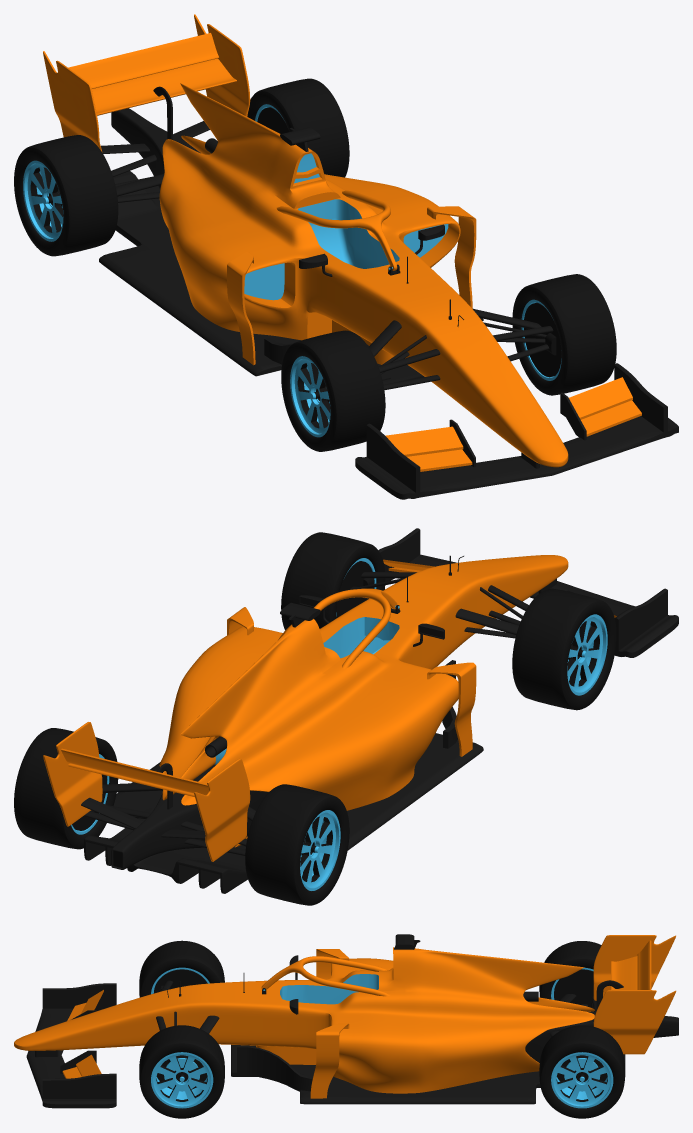
Rendered from Men_accessory_McLaren_5000.fbx.
The picture shows the model from 3 angles, top to bottom: view 1: azimuth 30°, elevation 25°; view 2: azimuth 150°, elevation 25°; view 3: azimuth 270°, elevation 25°; orthographic projection. The views are drawn at different scales.
Parts seen in each view (by area): view 1: _gltfNode_0, _gltfNode_3, _gltfNode_13, _gltfNode_16, _gltfNode_4, _gltfNode_2, _gltfNode_10, _gltfNode_1, _gltfNode_14, _gltfNode_17; view 2: _gltfNode_0, _gltfNode_3, _gltfNode_16, _gltfNode_13, _gltfNode_4, _gltfNode_17, _gltfNode_14, _gltfNode_2, _gltfNode_10; view 3: _gltfNode_0, _gltfNode_3, _gltfNode_13, _gltfNode_4, _gltfNode_16, _gltfNode_10, _gltfNode_14, _gltfNode_17, _gltfNode_2, _gltfNode_9.
Part boxes in pixels (x1,y1,x2,y2): _gltfNode_0: (43, 14, 641, 471); _gltfNode_3: (99, 86, 553, 468); _gltfNode_13: (281, 274, 616, 451); _gltfNode_16: (14, 78, 349, 256); _gltfNode_4: (355, 363, 678, 499); _gltfNode_2: (298, 199, 399, 268); _gltfNode_10: (47, 107, 561, 401); _gltfNode_1: (244, 153, 448, 300); _gltfNode_14: (290, 299, 561, 437); _gltfNode_17: (23, 104, 284, 241); _gltfNode_0: (43, 555, 616, 861); _gltfNode_3: (81, 555, 556, 893); _gltfNode_16: (14, 728, 349, 905); _gltfNode_13: (281, 532, 616, 710); _gltfNode_4: (378, 528, 678, 657); _gltfNode_17: (71, 754, 340, 890); _gltfNode_14: (336, 558, 607, 695); _gltfNode_2: (323, 617, 399, 658); _gltfNode_10: (72, 561, 583, 855); _gltfNode_0: (14, 935, 676, 1098); _gltfNode_3: (35, 934, 678, 1104); _gltfNode_13: (139, 940, 224, 1118); _gltfNode_4: (26, 983, 116, 1108); _gltfNode_16: (539, 941, 625, 1118); _gltfNode_10: (153, 969, 607, 1089); _gltfNode_14: (151, 967, 213, 1108); _gltfNode_17: (551, 967, 613, 1108); _gltfNode_2: (280, 974, 378, 1004); _gltfNode_9: (164, 1058, 600, 1091).
Size of the model in its own units: 170 by 99.25 by 463.
